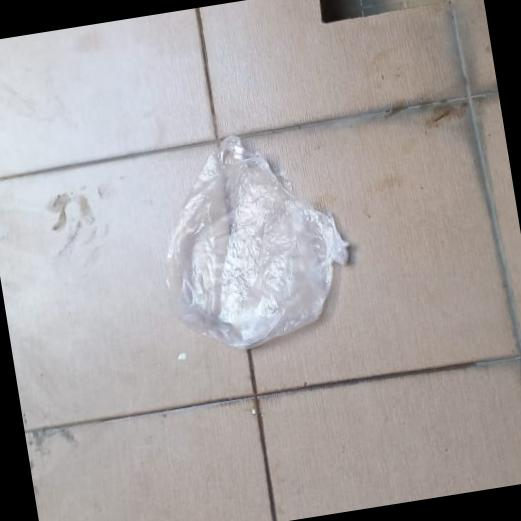Plastik: (141, 120, 362, 361)
